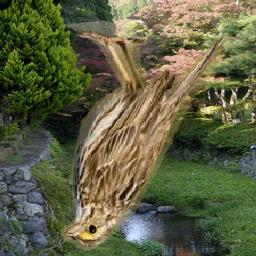Sparrow: (62, 17, 229, 251)
